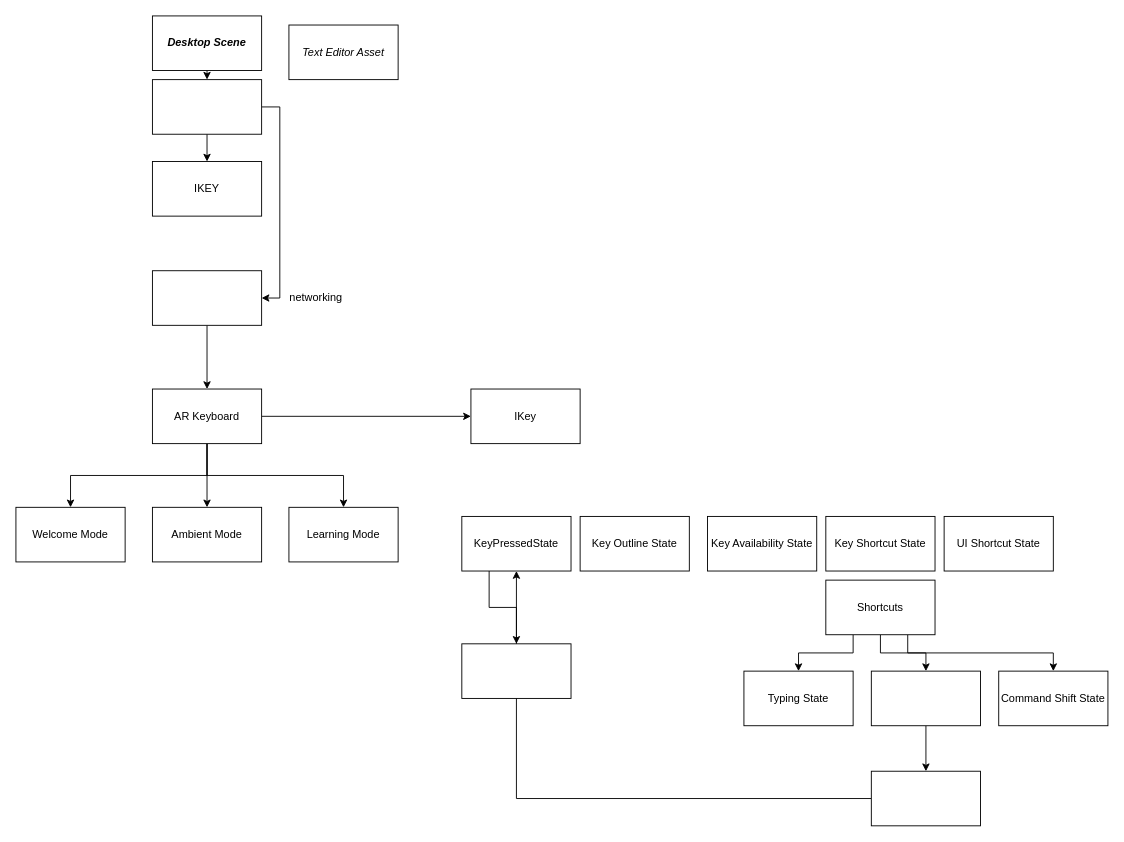
The diagram is 1124 pixels wide and 842 high, and some of its shapes have lost their labels. Each missing label, with the box of its shape:
Command State: (870, 670, 981, 726)
Execute: (461, 643, 571, 698)
Input Manager: (152, 79, 262, 134)
Normcore: (152, 270, 262, 325)
Undo Shortcut: (870, 770, 981, 826)
